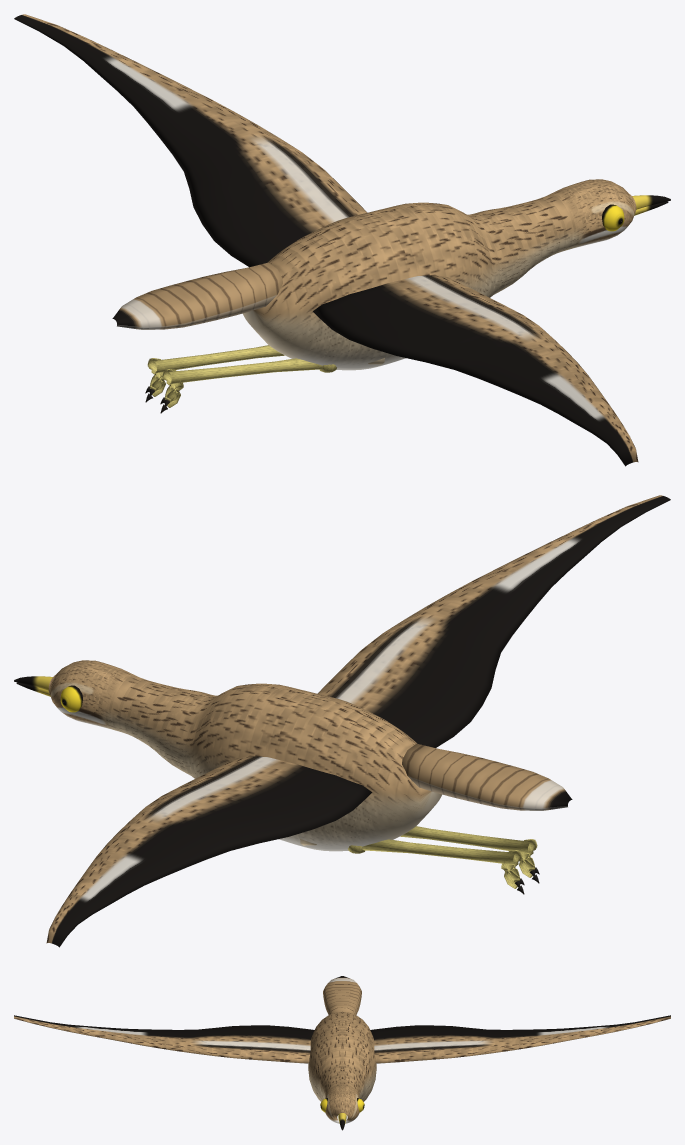
Rendered from curlew_flight.glb.
3 views of the same model, one above another, from view 1: azimuth 30°, elevation 25°; view 2: azimuth 150°, elevation 25°; view 3: azimuth 270°, elevation 25° (orthographic). The views are drawn at different scales.
Visible parts, largest first — view 1: curlew_body; view 2: curlew_body; view 3: curlew_body.
Boxes of the visible parts, x1,y1,x2,y2 form: curlew_body: (14, 14, 670, 466); curlew_body: (14, 495, 670, 947); curlew_body: (14, 976, 670, 1130).
Size of the model in its own units: 0.4282 by 0.106 by 0.8155.
1 material, 1 textured.
